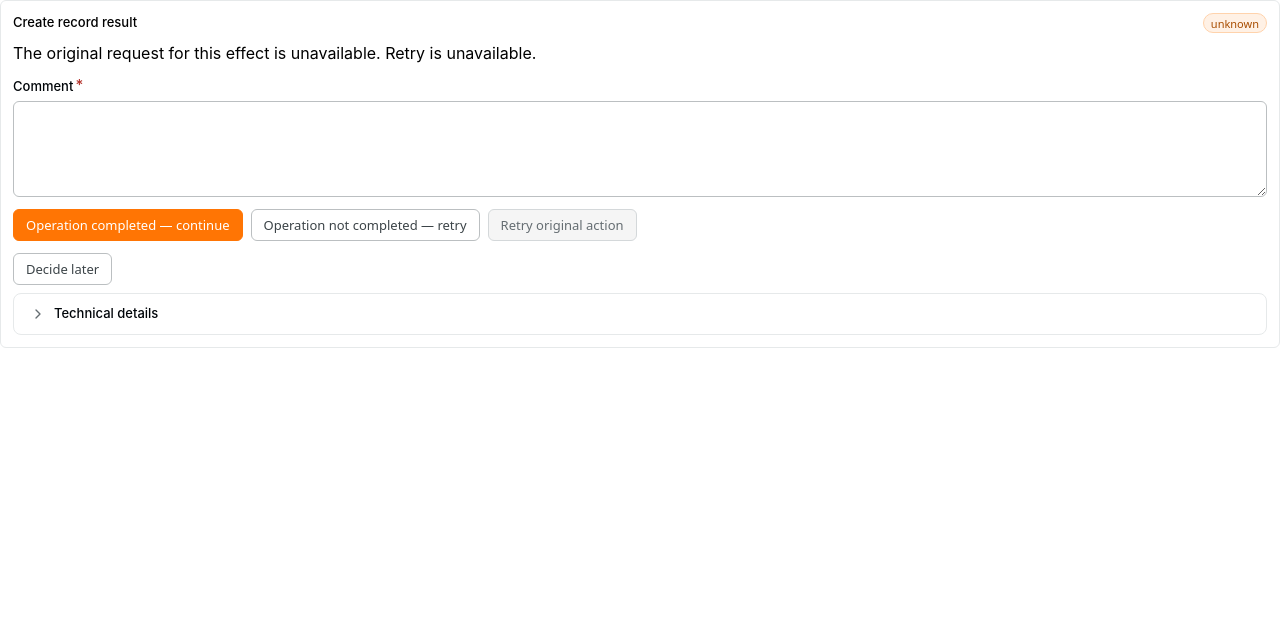
Test: keeps the effect identifier inside the existing technical details
Expected: the text "60efa34c-2af9-4ea2-9c4d-e3b937c21fc7" is not shown
Click the heading "Technical details" at (94,314), box [30,305,158,322]
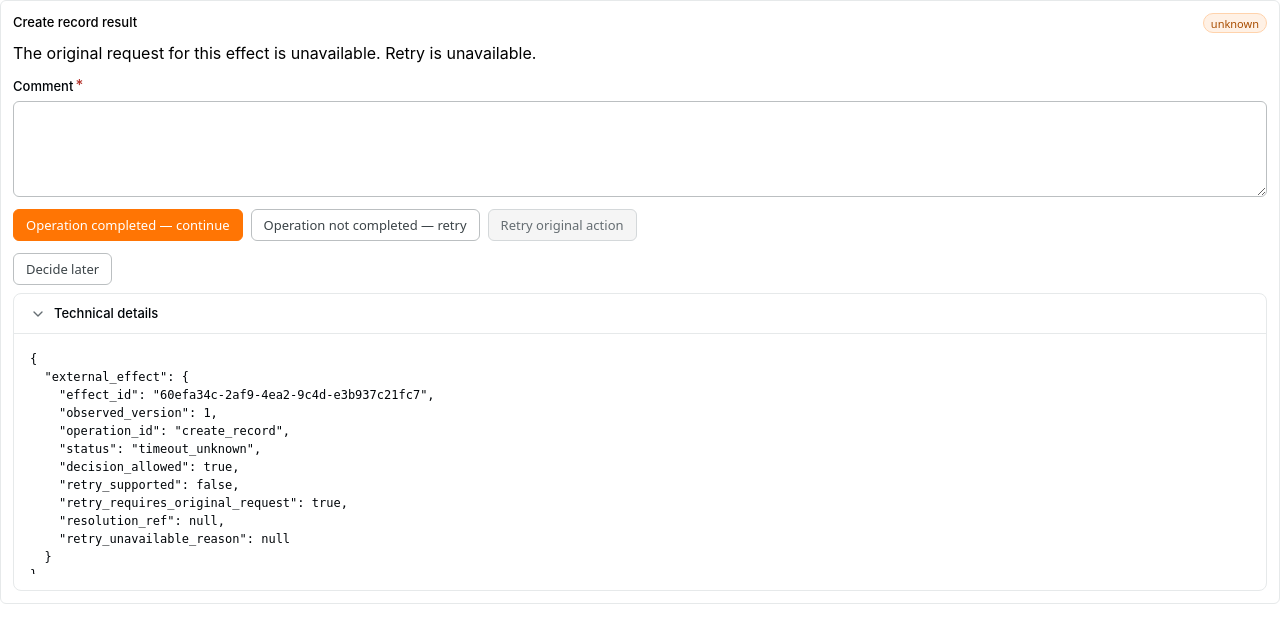
Result: the text "60efa34c-2af9-4ea2-9c4d-e3b937c21fc7" is shown at [30,352,435,582]
